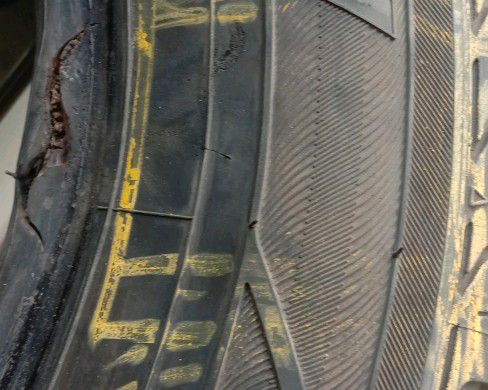bead_damage: (6, 11, 108, 279)
cut: (208, 9, 260, 77)
